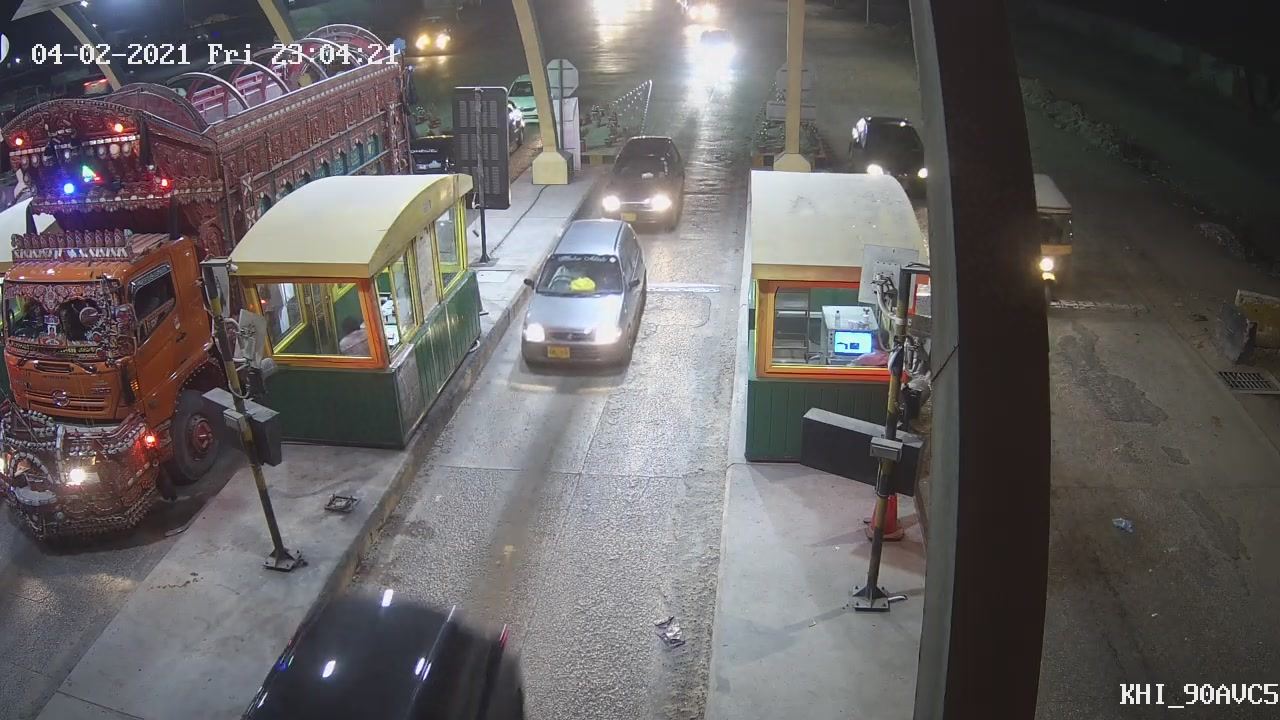F1: (518, 216, 650, 367)
